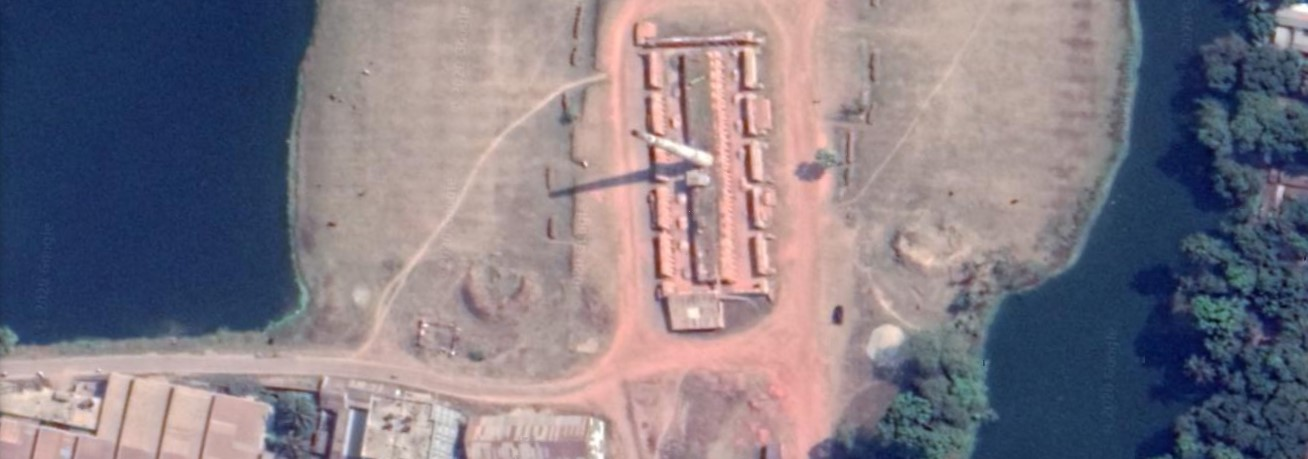kiln: (552, 23, 770, 346)
